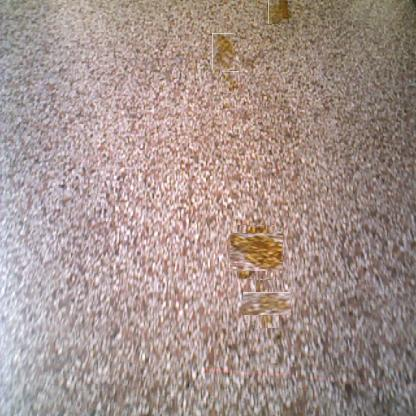liquid: (233, 229, 279, 275), (250, 286, 285, 322), (212, 33, 233, 70), (267, 0, 290, 23), (221, 71, 239, 92)
